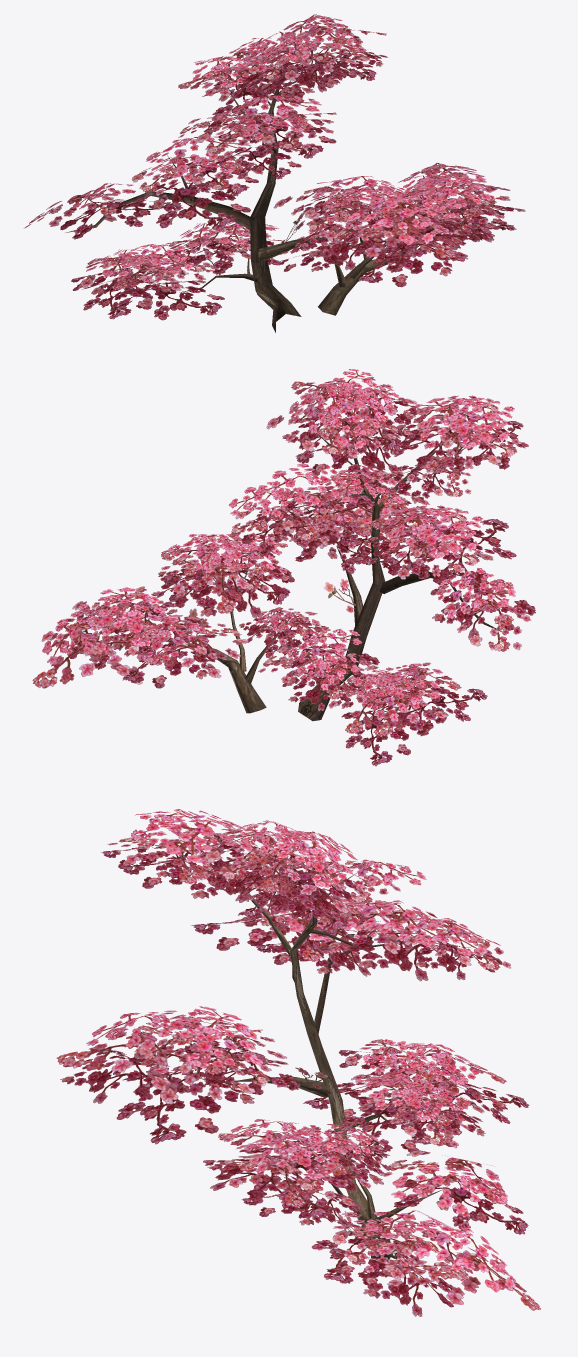
The model's file is S_Tree_Red002_H2.FBX.
3 renders of one model, top to bottom at view 1: azimuth 30°, elevation 25°; view 2: azimuth 150°, elevation 25°; view 3: azimuth 270°, elevation 25°, orthographic. The views are drawn at different scales.
Parts seen in each view (by area): view 1: S_Tree_Red002_H2_2, S_Tree_Red002_H2_1; view 2: S_Tree_Red002_H2_2, S_Tree_Red002_H2_1; view 3: S_Tree_Red002_H2_2, S_Tree_Red002_H2_1.
Part boxes in pixels (x1=…): S_Tree_Red002_H2_2: x1=23, y1=14, x2=525, y2=320; S_Tree_Red002_H2_1: x1=65, y1=49, x2=452, y2=332; S_Tree_Red002_H2_2: x1=32, y1=369, x2=535, y2=766; S_Tree_Red002_H2_1: x1=150, y1=425, x2=501, y2=721; S_Tree_Red002_H2_2: x1=56, y1=809, x2=541, y2=1316; S_Tree_Red002_H2_1: x1=182, y1=860, x2=442, y2=1260.
Bounding box in the file's own units: 1358 × 815 × 1028.
2 materials, 2 textured.
